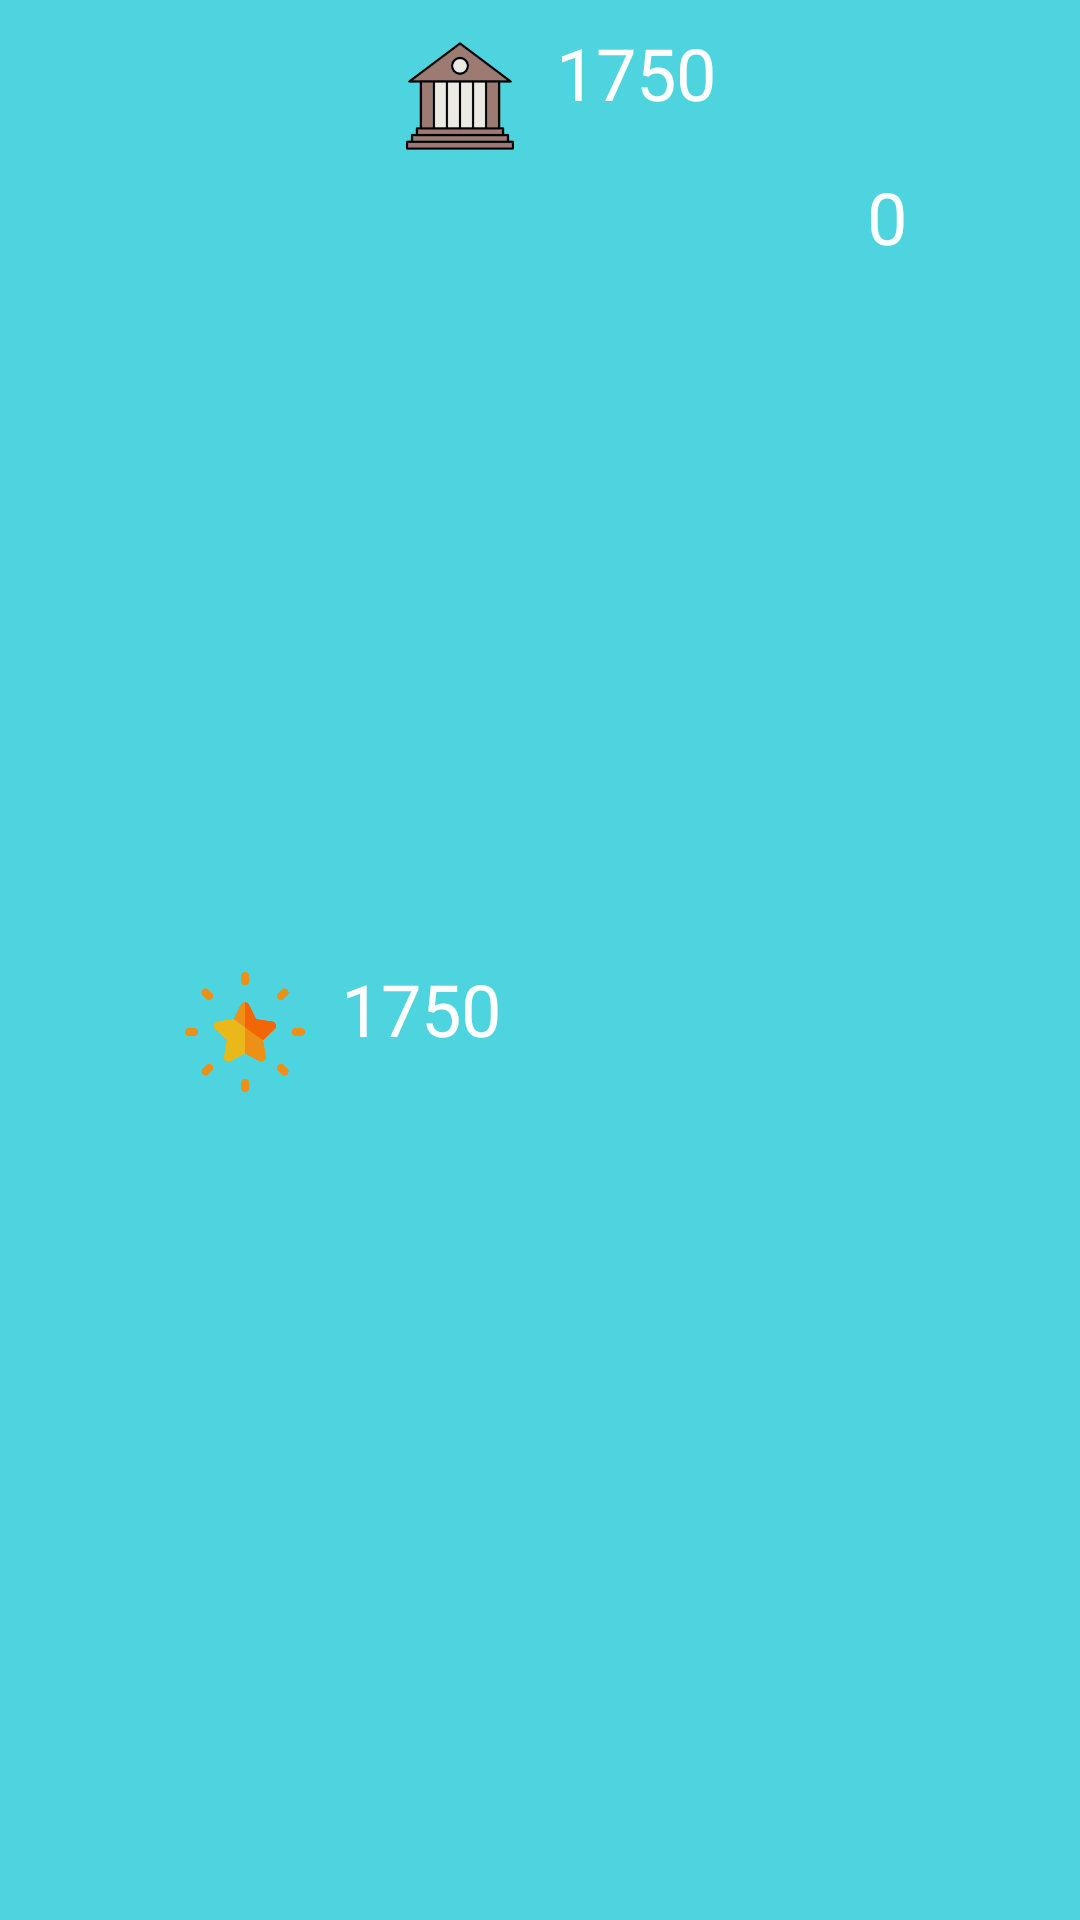

Icon bounding boxes for this 1080 x 1920 phone screenshot, format (x1, y1, x2, y2):
bank: (406, 42, 514, 150)
star: (185, 972, 305, 1092)
